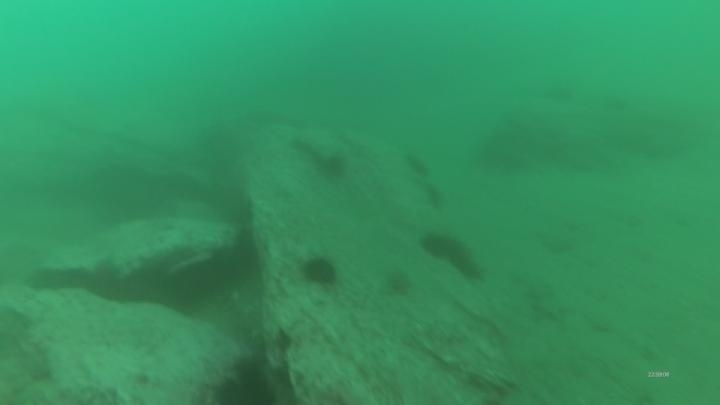echinus: (208, 352, 280, 404), (419, 228, 486, 282), (299, 253, 340, 289), (314, 150, 350, 181), (292, 132, 328, 163), (402, 147, 438, 178), (420, 183, 456, 214)
